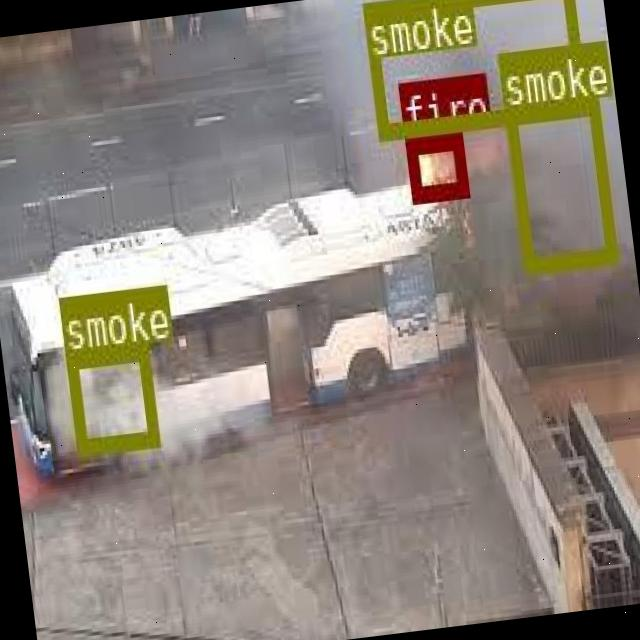fire: (402, 130, 466, 199)
smoke: (361, 0, 585, 137), (502, 97, 615, 272), (64, 342, 158, 454)
